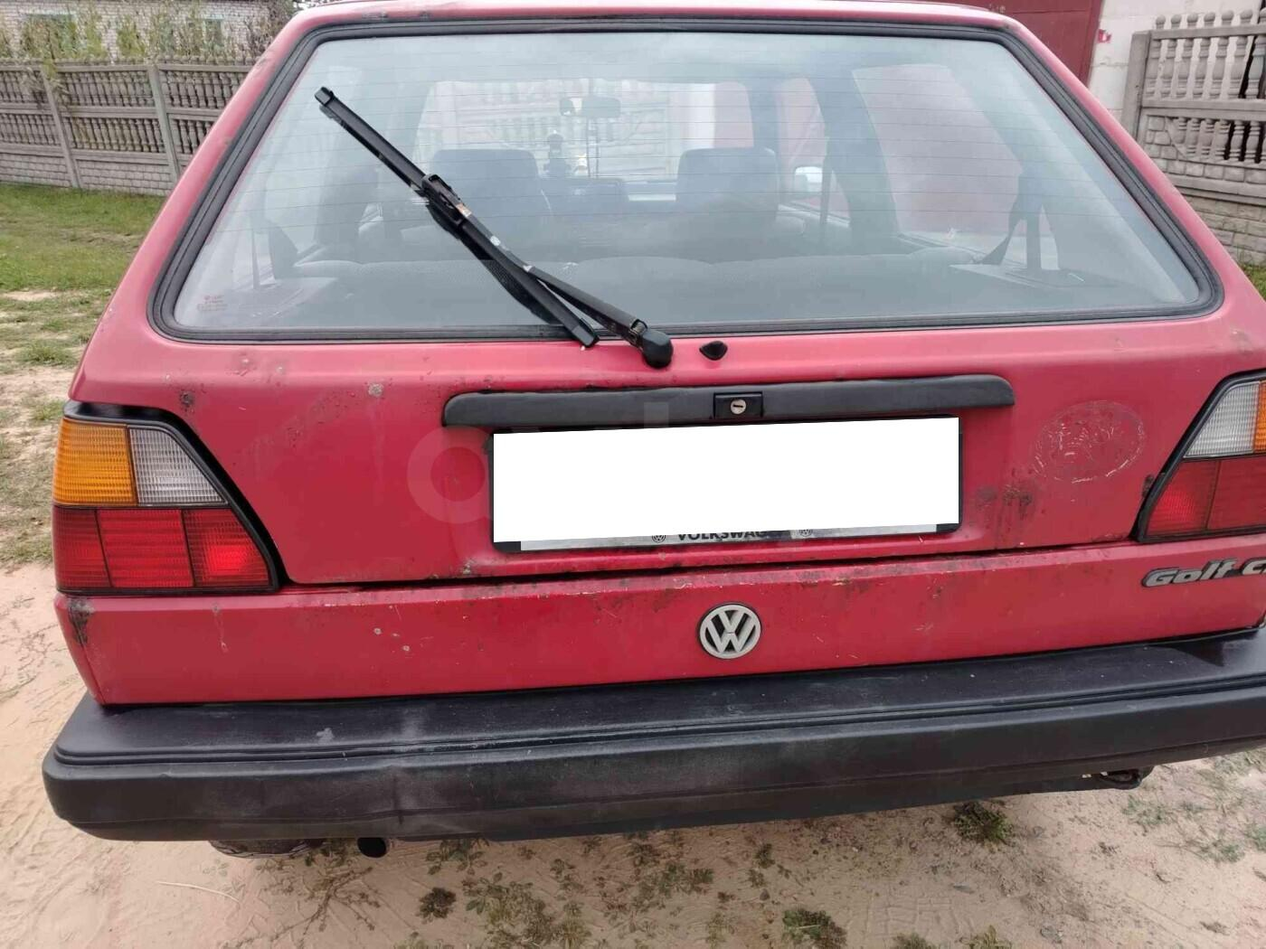Golf_1983-1992: (34, 1, 1266, 842)
